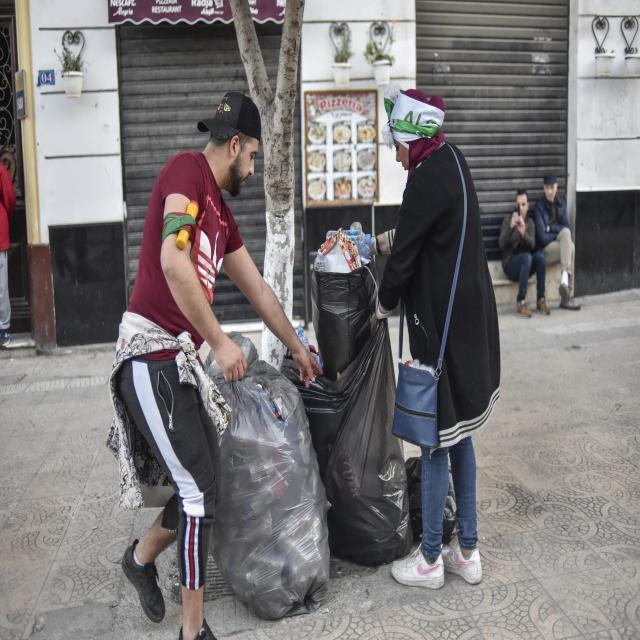Trashbag: (299, 334, 413, 572), (309, 252, 382, 378)
